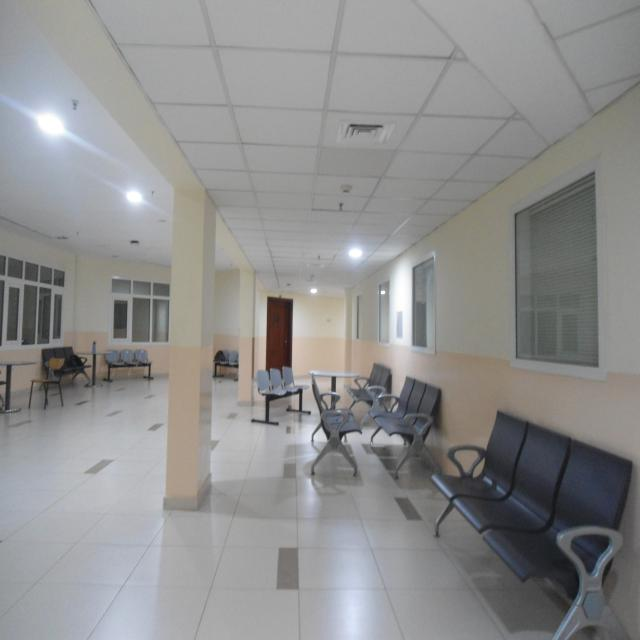bench: (446, 381, 627, 640), (382, 366, 443, 481), (308, 374, 359, 479), (253, 364, 314, 424), (354, 357, 391, 431), (100, 336, 155, 383), (42, 346, 96, 388), (213, 346, 237, 376)
door: (265, 294, 298, 384)
pillar: (173, 175, 223, 520)
table: (306, 360, 362, 398), (0, 354, 38, 409)
window: (506, 191, 602, 367), (0, 238, 76, 361), (109, 272, 183, 354), (410, 255, 444, 361), (375, 282, 397, 346)
